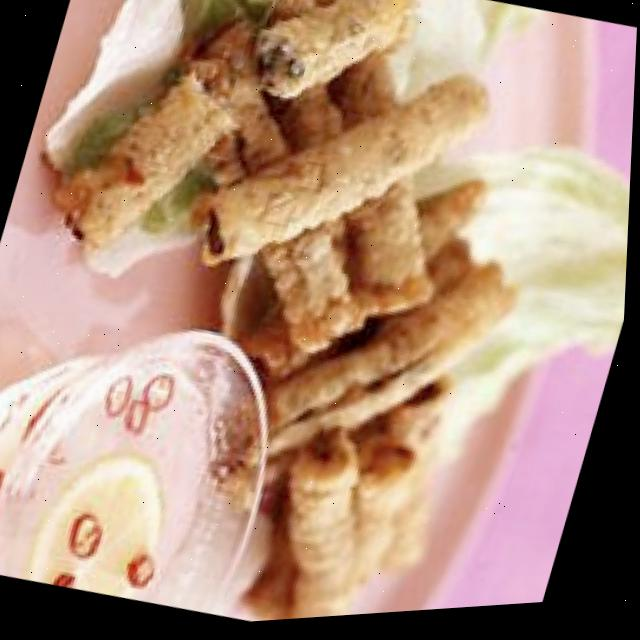鸡蛋料理: (18, 0, 559, 388)
